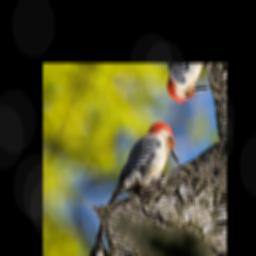Woodpecker: (108, 110, 192, 232)
